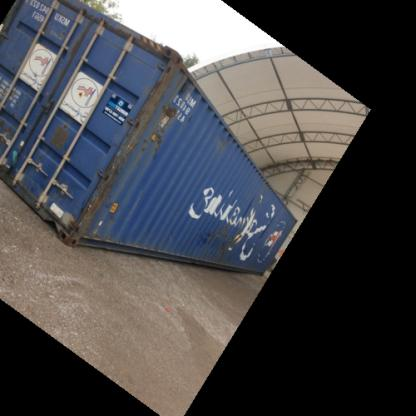Damage: (137, 91, 176, 155), (88, 162, 124, 223), (201, 217, 245, 259), (51, 119, 74, 146), (211, 132, 230, 156), (261, 204, 273, 238)
